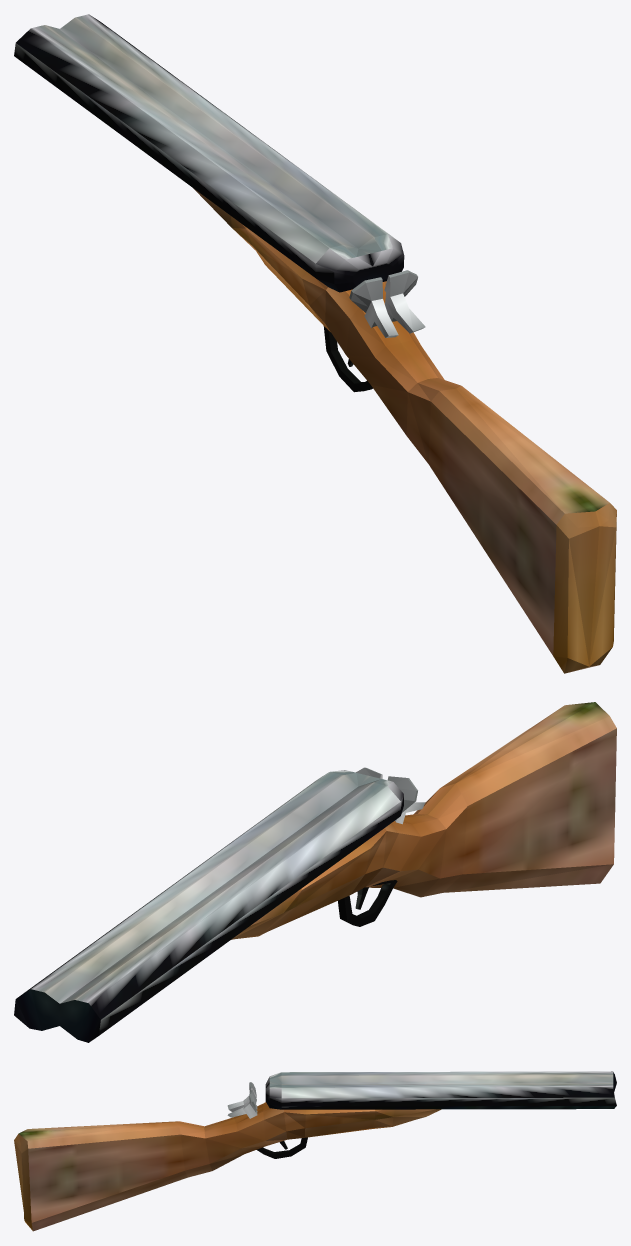
The model's file is shoot0047.obj.
3 renders of one model, top to bottom at view 1: azimuth 30°, elevation 25°; view 2: azimuth 150°, elevation 25°; view 3: azimuth 270°, elevation 25°, orthographic. The views are drawn at different scales.
Parts seen in each view (by area): view 1: Cube, Cube.001, Cube.003, Cube.002; view 2: Cube, Cube.001, Cube.002, Cube.003; view 3: Cube, Cube.001, Cube.003, Cube.002.
Boxes of the visible parts, x1,y1,x2,y2 form: Cube: (193,188,616,673); Cube.001: (14,14,404,292); Cube.003: (349,270,425,337); Cube.002: (323,326,372,392); Cube: (231,702,616,939); Cube.001: (14,770,403,1042); Cube.002: (338,880,397,926); Cube.003: (356,767,425,824); Cube: (14,1102,441,1231); Cube.001: (265,1071,616,1109); Cube.003: (227,1082,257,1118); Cube.002: (256,1137,307,1158).
Size of the model in its own units: 0.2055 by 0.6111 by 2.27.
Materials: 1 (1 with a texture image).
